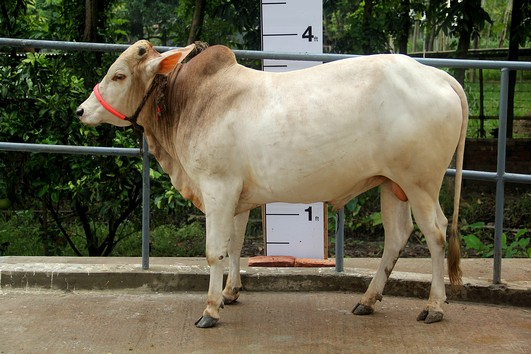cow: (68, 33, 471, 333)
